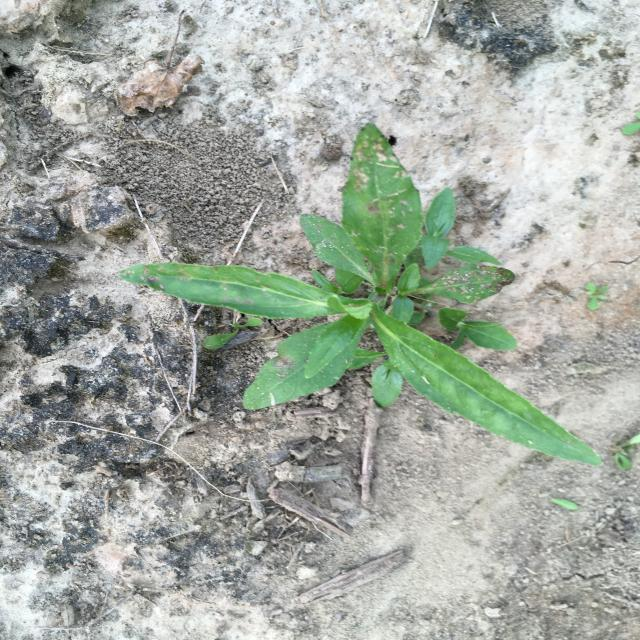Carpetweed: (584, 283, 610, 310)
Eclipta: (119, 122, 602, 465)
